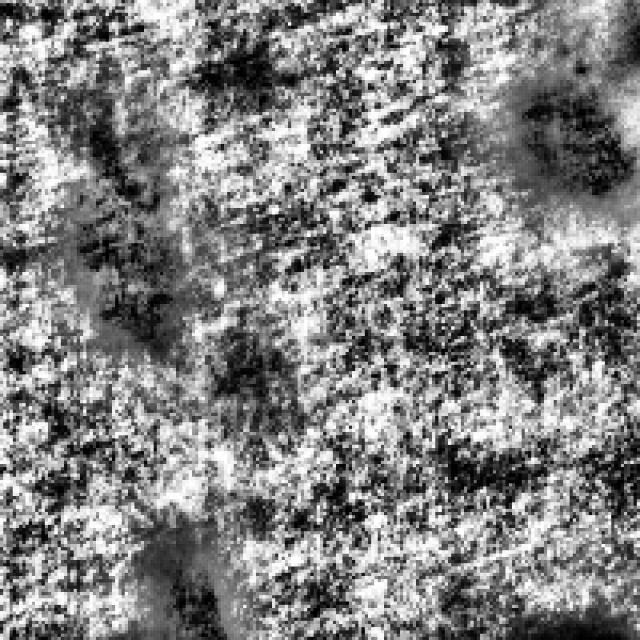Scratches: (64, 99, 182, 349), (508, 38, 634, 212), (115, 518, 221, 637)
